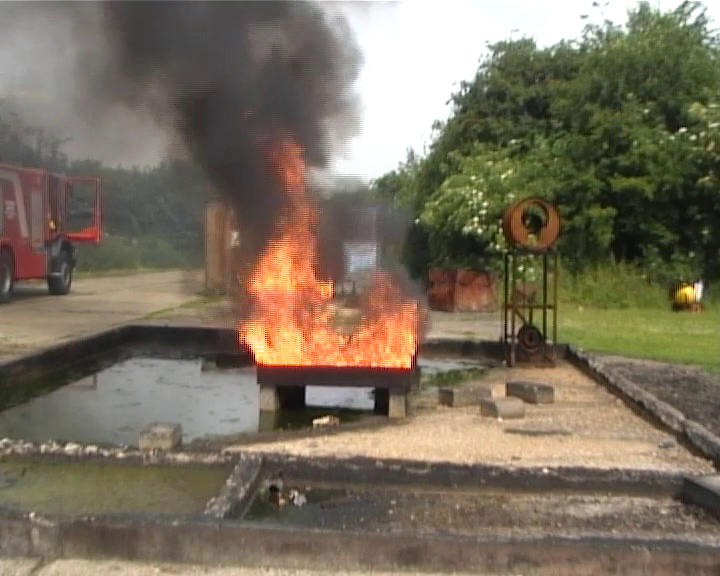fire: (237, 235, 416, 365)
